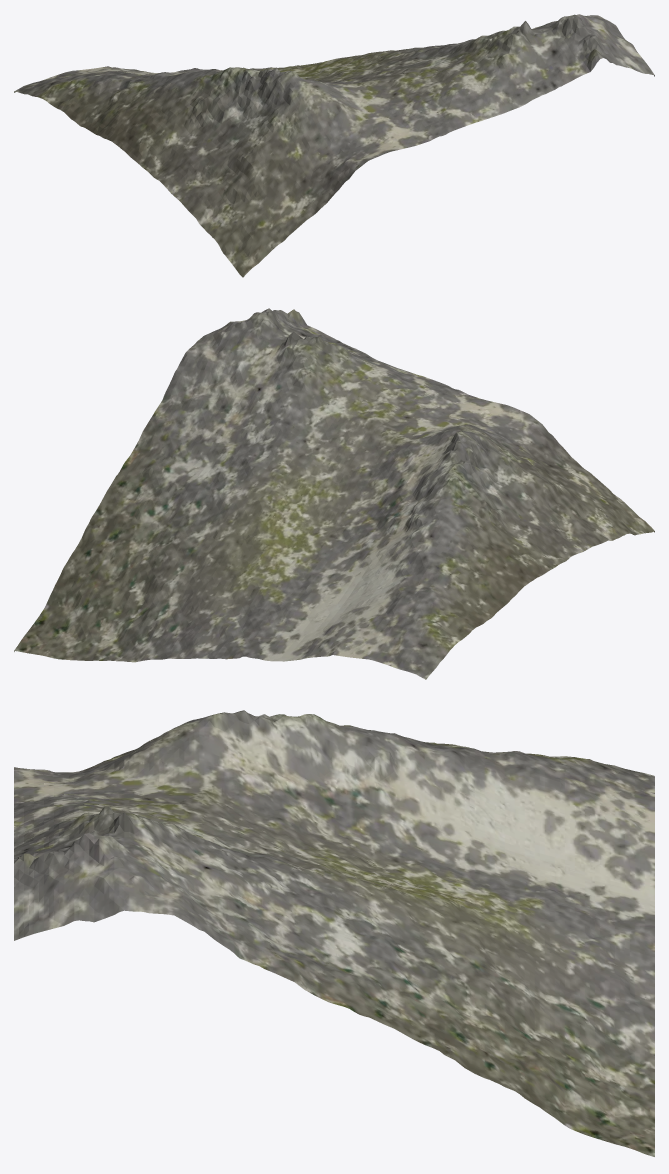
The picture shows the model from 3 angles, top to bottom: view 1: azimuth 30°, elevation 25°; view 2: azimuth 150°, elevation 25°; view 3: azimuth 270°, elevation 25°; orthographic projection. The views are drawn at different scales.
Size of the model in its own units: 250 by 121 by 241.
Materials: 1 (1 with a texture image).
